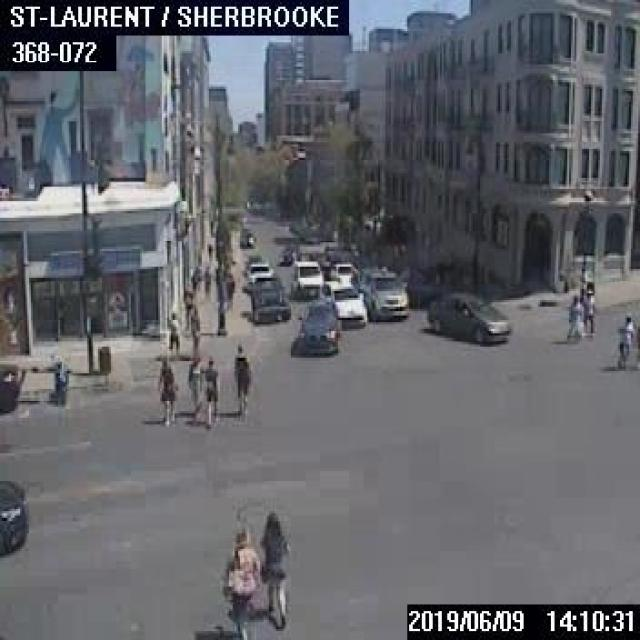pedestrian: (220, 528, 258, 638), (258, 511, 288, 629), (156, 354, 178, 424), (229, 340, 249, 413), (613, 313, 638, 369), (186, 351, 202, 421), (202, 356, 217, 426), (566, 294, 582, 340), (51, 362, 67, 407), (188, 303, 200, 357), (165, 310, 179, 356), (582, 286, 594, 334), (181, 280, 192, 328), (203, 264, 210, 301), (205, 239, 213, 265)
vehicle: (425, 287, 511, 342), (0, 474, 31, 556), (361, 265, 407, 317), (320, 276, 366, 324), (297, 300, 337, 353), (248, 276, 289, 320), (292, 259, 322, 298), (0, 360, 18, 413), (242, 261, 272, 290), (278, 243, 300, 265), (329, 262, 355, 280), (238, 226, 255, 246)
